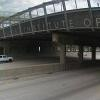Bridge: (4, 3, 97, 58)
